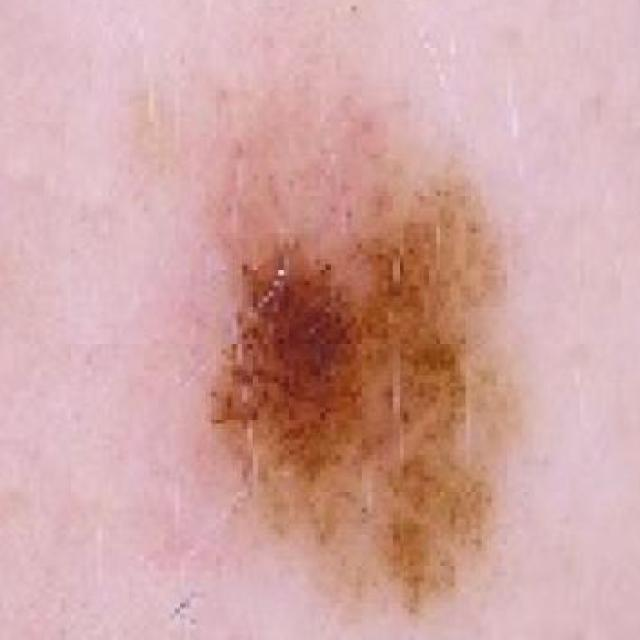MEL: (196, 122, 593, 640)
